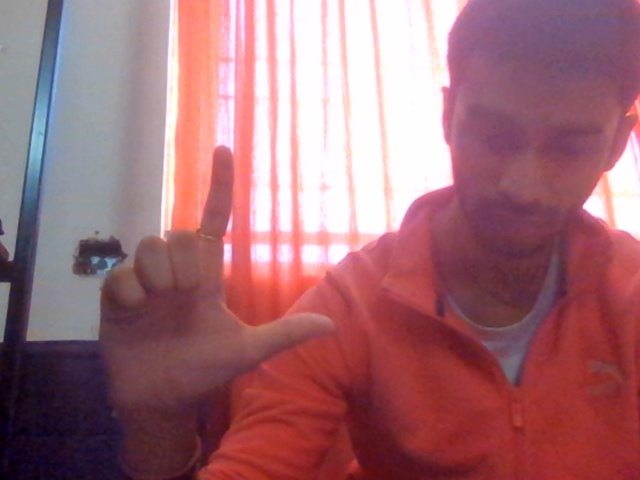L: (87, 108, 342, 480)
